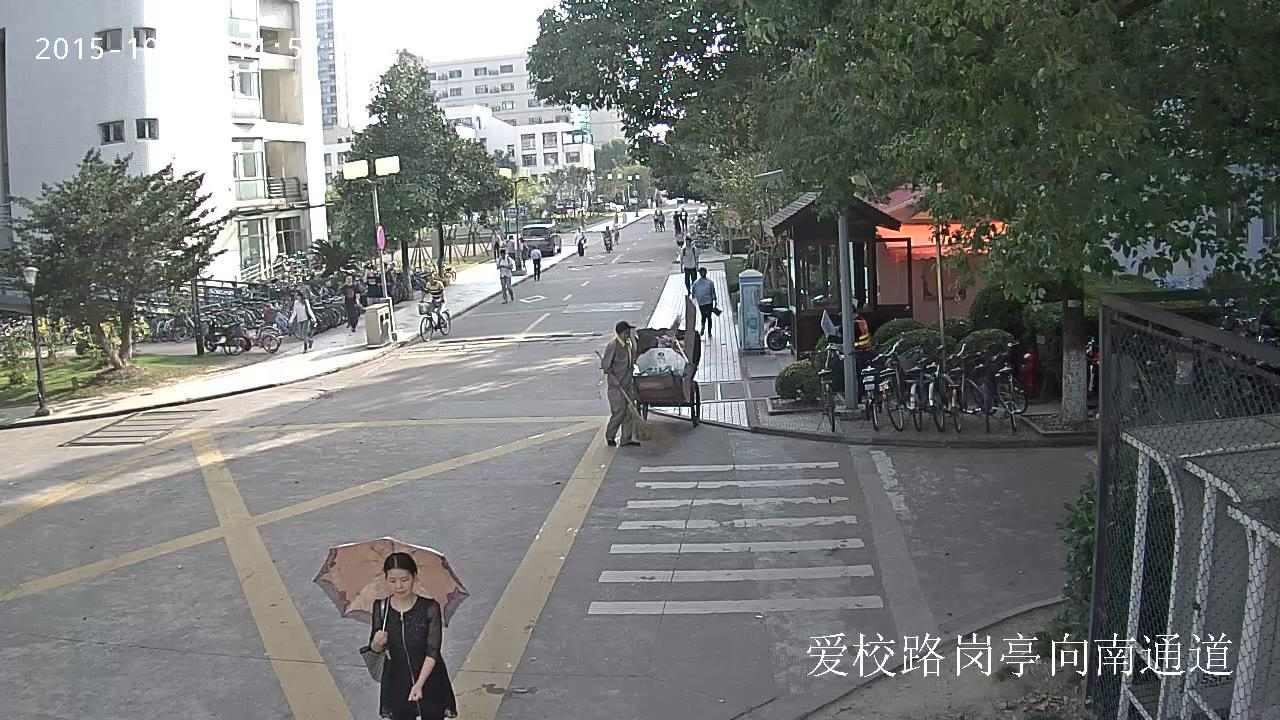person: (312, 537, 469, 720), (359, 551, 457, 720), (595, 320, 672, 447), (601, 321, 641, 446), (418, 273, 450, 341), (691, 267, 720, 337), (288, 290, 316, 353), (339, 274, 361, 331), (421, 273, 443, 328), (680, 237, 698, 295), (496, 249, 515, 303), (365, 268, 380, 297), (530, 244, 540, 281), (517, 238, 528, 270), (574, 227, 586, 256), (603, 226, 612, 252), (679, 207, 687, 231), (672, 210, 680, 233), (603, 226, 612, 245), (658, 209, 665, 231), (652, 209, 657, 231)
